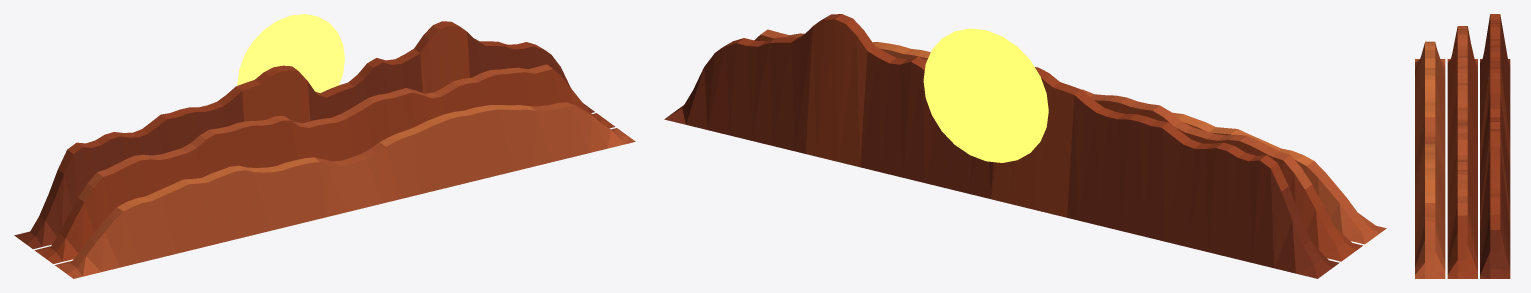
File: W5_Far_SunsetRidge.fbx
3 views of the same model, side by side, from view 1: azimuth 30°, elevation 25°; view 2: azimuth 150°, elevation 25°; view 3: azimuth 270°, elevation 25° (orthographic). The views are drawn at different scales.
Visible parts, largest first — view 1: W5_Far_SunsetRidge; view 2: W5_Far_SunsetRidge; view 3: W5_Far_SunsetRidge.
Part boxes in pixels (<box>): W5_Far_SunsetRidge: <box>14,14,635,278</box>; W5_Far_SunsetRidge: <box>664,14,1386,278</box>; W5_Far_SunsetRidge: <box>1415,14,1510,278</box>.
Size of the model in its own units: 480 by 121 by 94.
